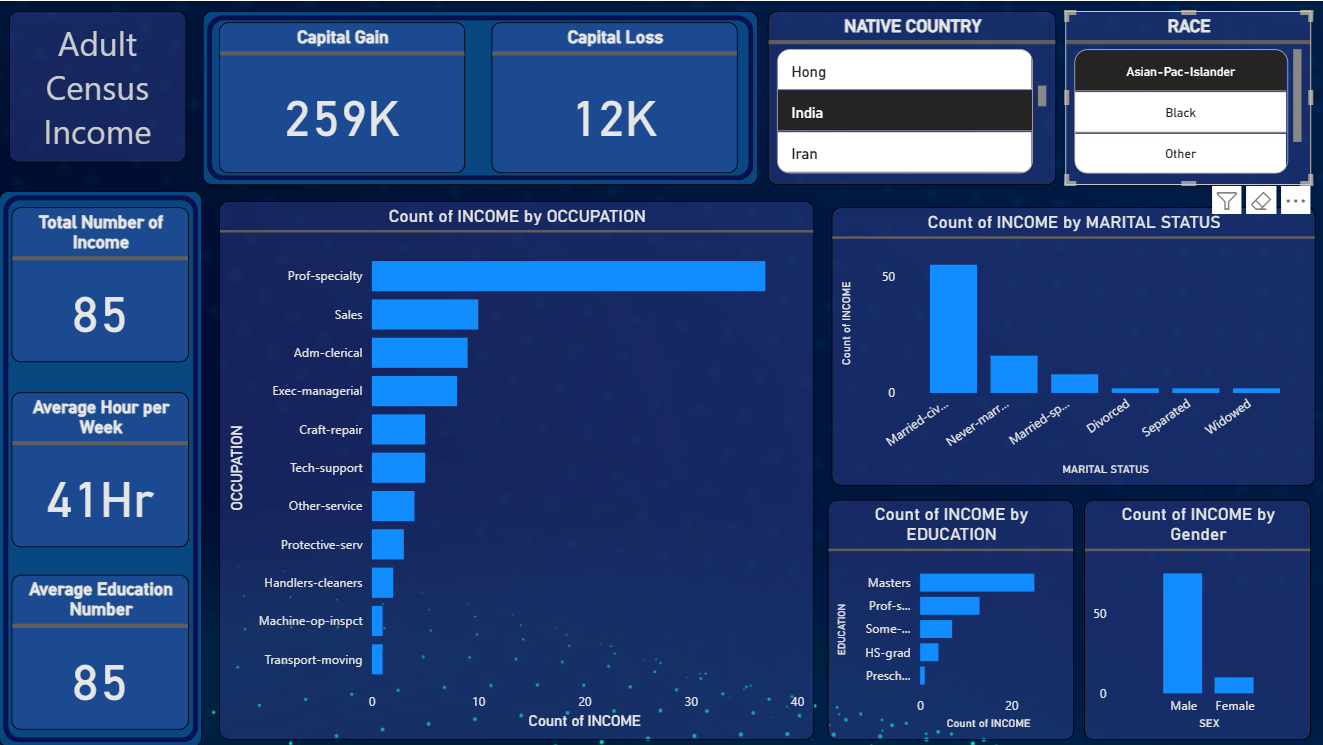

What the dashboard file says about the page in this screenshot:
{"tool":"powerbi","page":{"name":"Page 1","canvas":[1280,720],"ordinal":0},"visuals":[{"type":"shape","box":[196.6,9.7,535.7,167.7],"z":0},{"type":"shape","box":[0,183.9,196.2,536.5],"z":1000},{"type":"card","title":"Total Number of Income","fields":{"Values":["CountNonNull(Data.INCOME)"]},"box":[12.1,199.1,171.3,149.6],"z":3000},{"type":"card","title":"Average Hour per Week","fields":{"Values":["Avg(Data.HOURS PER WEEK)"]},"box":[12.1,377.6,171.3,149.6],"z":4000},{"type":"card","title":"Average Education Number","fields":{"Values":["CountNonNull(Data.EDUCATION NUMBER)"]},"box":[12.1,553.8,171.3,149.6],"z":5000},{"type":"textbox","box":[10,10,171.2,146.2],"z":6000},{"type":"columnChart","title":"Count of INCOME by Gender","fields":{"Category":["Data.SEX"],"Y":["CountNonNull(Data.INCOME)"]},"box":[1047.2,481.4,219.6,231.6],"z":7000},{"type":"clusteredBarChart","fields":{"Category":["Data.EDUCATION"],"Y":["CountNonNull(Data.INCOME)"]},"box":[799.9,481.4,237.7,231.6],"z":8000},{"type":"clusteredBarChart","fields":{"Category":["Data.OCCUPATION"],"Y":["CountNonNull(Data.INCOME)"]},"box":[212.3,193,574.3,520],"z":9000},{"type":"card","title":"Capital Gain","fields":{"Values":["Sum(Data.CAPITAL GAIN)"]},"box":[212.3,20.5,237.7,146],"z":10000},{"type":"card","title":"Capital Loss","fields":{"Values":["Sum(Data.CAPITAL LOSS)"]},"box":[475.3,20.5,237.7,146],"z":11000},{"type":"columnChart","fields":{"Category":["Data.MARITAL STATUS"],"Y":["CountNonNull(Data.INCOME)"]},"box":[803.5,199.1,466.9,269],"z":11001},{"type":"advancedSlicerVisual","fields":{"Values":["Data.RACE"]},"box":[1029.1,9.7,237.7,167.7],"z":11003},{"type":"advancedSlicerVisual","fields":{"Values":["Data.NATIVE COUNTRY"]},"box":[742,9.7,278.7,167.7],"z":11004}]}

Visuals, with their boxes in screenshot pixels (x1, y1, x2, y2), scaled from the page's 1280x720 canvas onto the 1323x745 screenshot:
shape: Rect(203, 10, 757, 184)
shape: Rect(0, 190, 203, 744)
"Total Number of Income" card: Rect(13, 206, 190, 361)
"Average Hour per Week" card: Rect(13, 391, 190, 546)
"Average Education Number" card: Rect(13, 573, 190, 728)
textbox: Rect(10, 10, 187, 162)
"Count of INCOME by Gender" columnChart: Rect(1082, 498, 1309, 738)
clusteredBarChart - Data.EDUCATION x CountNonNull(Data.INCOME): Rect(827, 498, 1072, 738)
clusteredBarChart - Data.OCCUPATION x CountNonNull(Data.INCOME): Rect(219, 200, 813, 738)
"Capital Gain" card: Rect(219, 21, 465, 172)
"Capital Loss" card: Rect(491, 21, 737, 172)
columnChart - Data.MARITAL STATUS x CountNonNull(Data.INCOME): Rect(830, 206, 1313, 484)
advancedSlicerVisual - Data.RACE: Rect(1064, 10, 1309, 184)
advancedSlicerVisual - Data.NATIVE COUNTRY: Rect(767, 10, 1055, 184)
